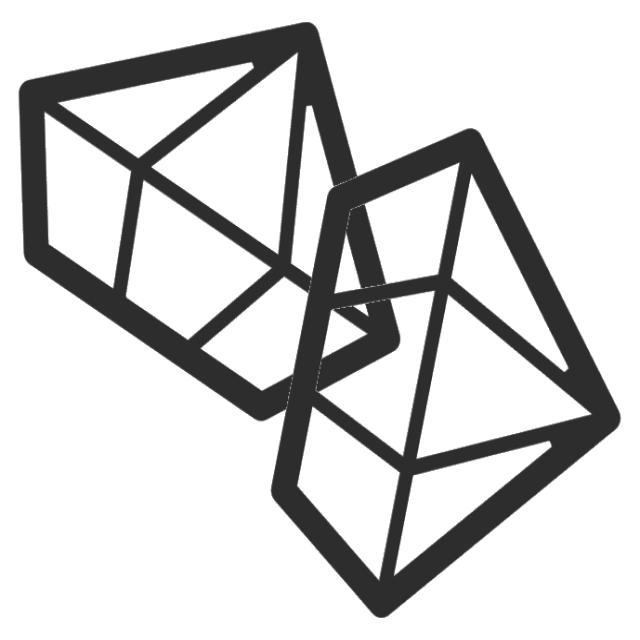diamond: (258, 115, 629, 629), (9, 13, 412, 444)
